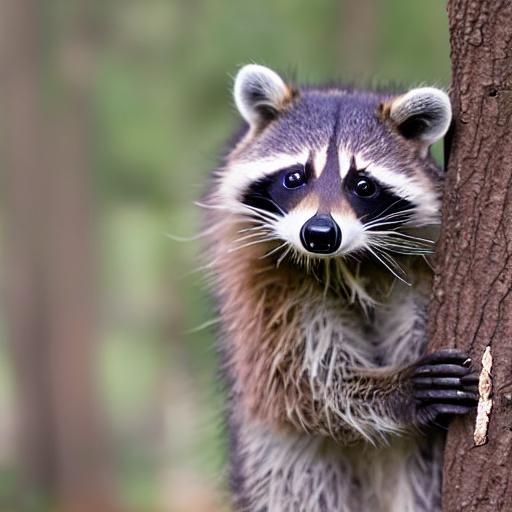raccoon: (190, 56, 452, 512)
